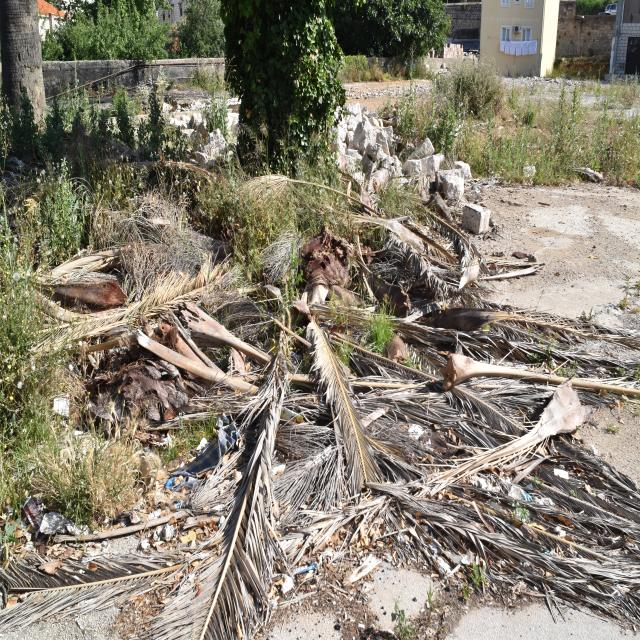restos de madeira: (184, 322, 295, 640), (411, 380, 597, 514), (392, 309, 639, 397), (74, 260, 236, 366), (5, 546, 211, 614), (440, 343, 640, 409), (306, 316, 376, 499), (295, 224, 354, 318), (425, 202, 485, 292), (44, 257, 130, 311), (396, 216, 461, 263), (481, 255, 545, 279)
